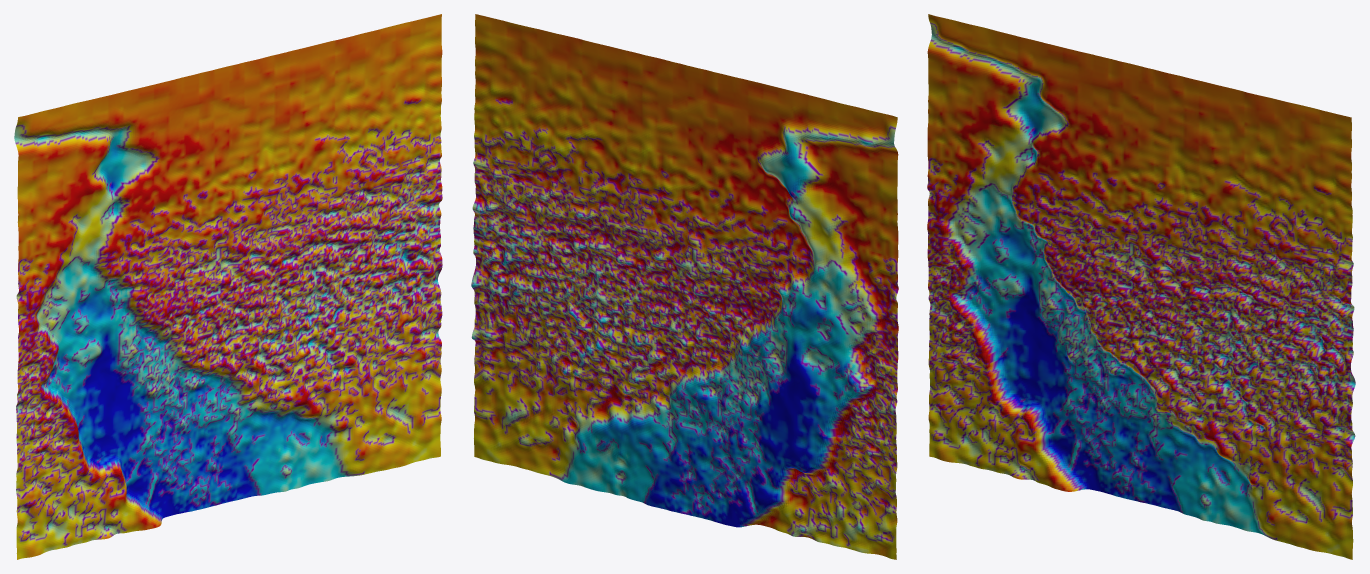
The picture shows the model from 3 angles, left to right: view 1: azimuth 30°, elevation 25°; view 2: azimuth 150°, elevation 25°; view 3: azimuth 330°, elevation 25°; orthographic projection.
Visible parts, largest first — view 1: world; view 2: world; view 3: world.
Boxes of the visible parts, x1,y1,x2,y2 form: world: (14, 14, 442, 559); world: (471, 14, 898, 559); world: (927, 14, 1355, 559).
Bounding box in the file's own units: 299 × 299 × 12.
